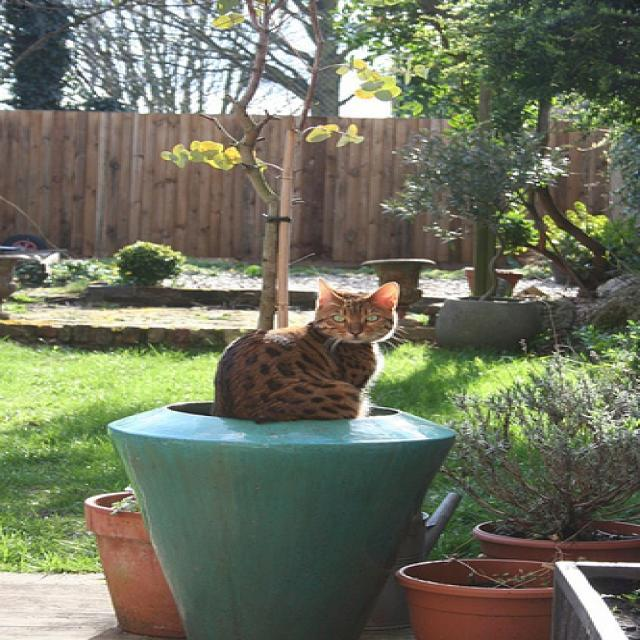Bengal: (310, 273, 405, 350)
